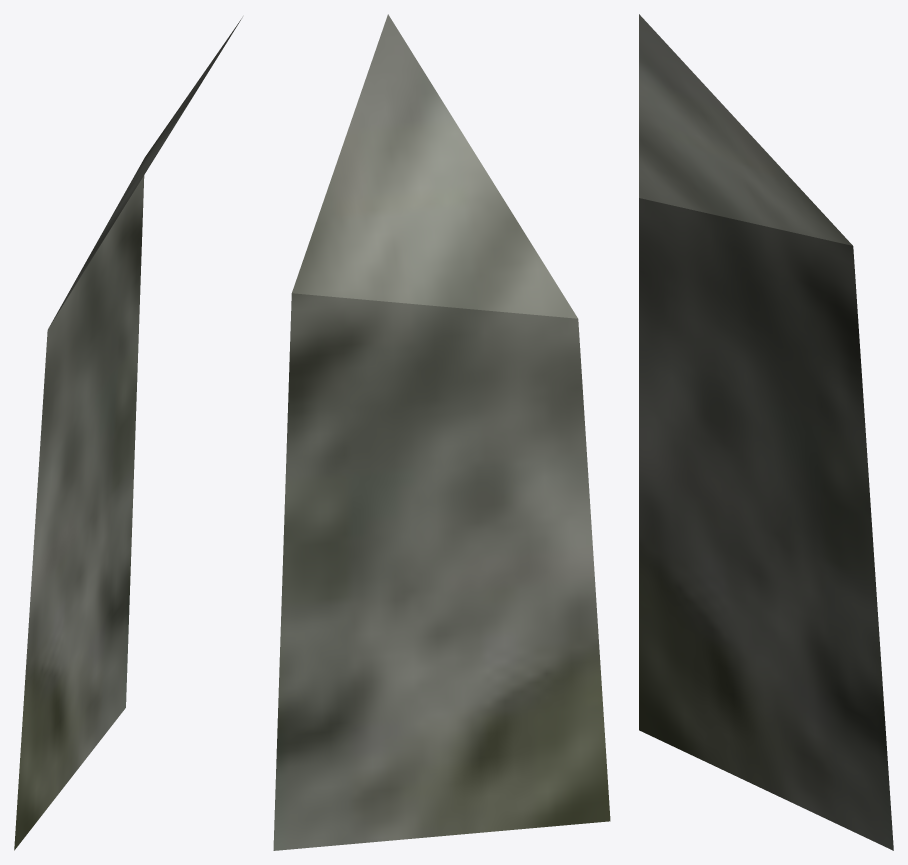
The picture shows the model from 3 angles, left to right: view 1: azimuth 30°, elevation 25°; view 2: azimuth 150°, elevation 25°; view 3: azimuth 270°, elevation 25°; orthographic projection. The views are drawn at different scales.
Size of the model in its own units: 0.3412 by 1.1 by 0.3046.
Materials: 1 (1 with a texture image).
